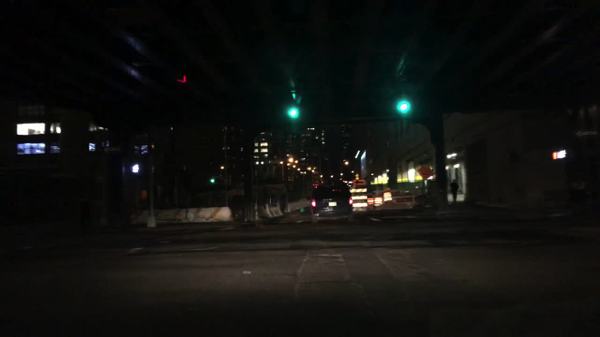car: (310, 177, 354, 226)
person: (448, 178, 460, 202)
traffic light: (176, 74, 186, 97), (396, 98, 411, 113), (287, 107, 298, 119), (128, 164, 141, 173), (209, 178, 215, 185)
traffic sign: (417, 165, 432, 181), (574, 130, 597, 139), (102, 147, 121, 154), (352, 180, 365, 187)
